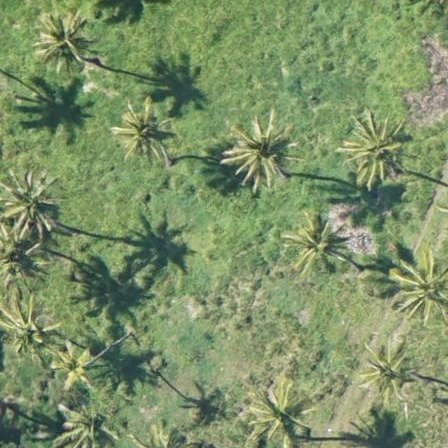palm_tree: (246, 379, 314, 447), (345, 121, 406, 183), (229, 123, 291, 180), (1, 297, 55, 362), (392, 255, 448, 317), (1, 171, 57, 230), (50, 401, 117, 448), (288, 215, 342, 271), (360, 345, 413, 400), (34, 11, 88, 61), (1, 226, 50, 280), (116, 109, 164, 159), (50, 347, 100, 390), (1, 359, 3, 389)
